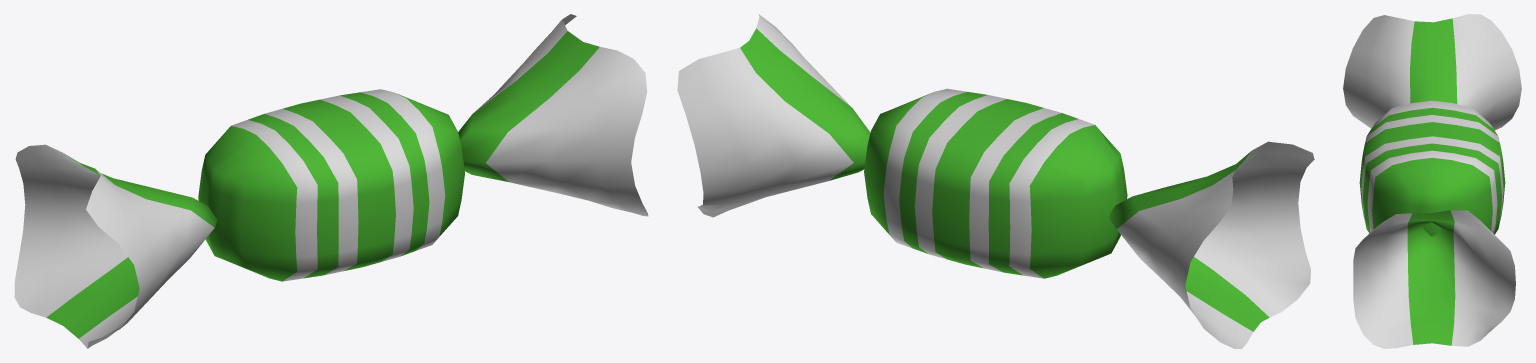
The model's file is candy_Cor3_v3.fbx.
3 renders of one model, left to right at view 1: azimuth 30°, elevation 25°; view 2: azimuth 150°, elevation 25°; view 3: azimuth 270°, elevation 25°, orthographic. The views are drawn at different scales.
Visible parts, largest first — view 1: candy; view 2: candy; view 3: candy.
Part boxes in pixels (x1,y1,x2,y2): candy: (14,14,648,348); candy: (677,14,1314,348); candy: (1343,14,1521,348).
Bounding box in the file's own units: 29.47 × 8.43 × 10.32.
